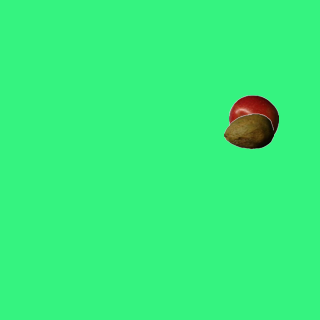Apple Braeburn: (228, 94, 278, 144)
Papaya: (223, 106, 273, 156)
